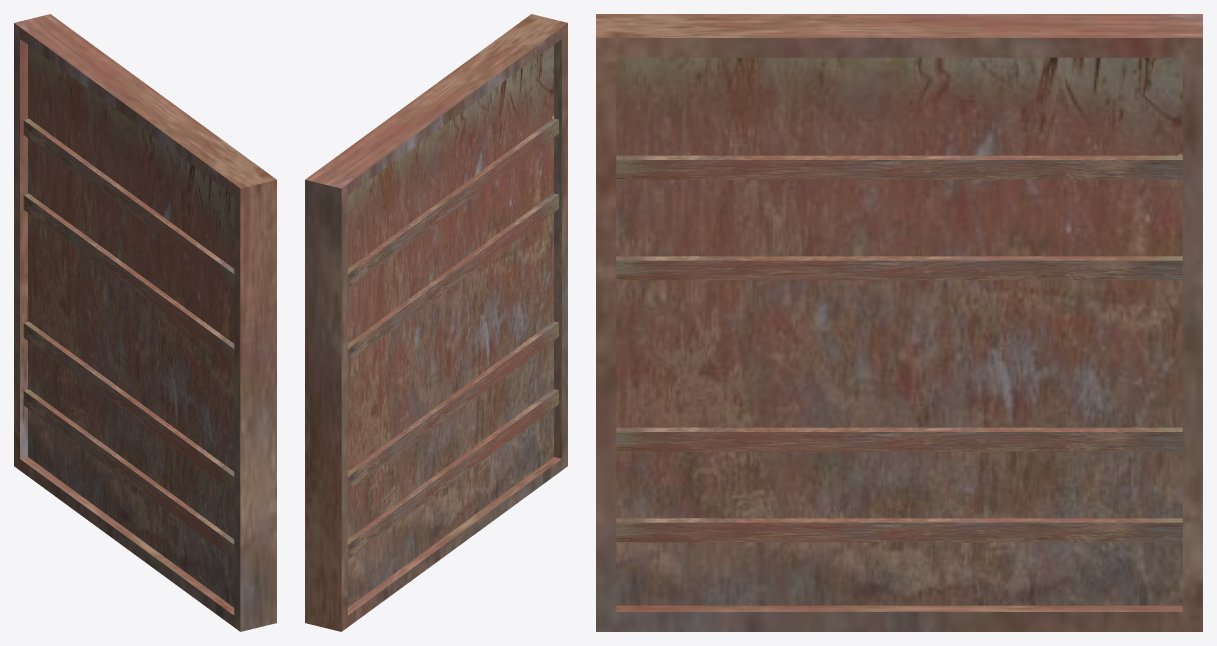
File: porta principal hydra.fbx
The picture shows the model from 3 angles, left to right: view 1: azimuth 30°, elevation 25°; view 2: azimuth 150°, elevation 25°; view 3: azimuth 270°, elevation 25°; orthographic projection. The views are drawn at different scales.
Parts seen in each view (by area): view 1: pCube403, pCube404, pCube406, pCube405, pCube407; view 2: pCube403, pCube404, pCube406, pCube405, pCube407; view 3: pCube403, pCube404, pCube405, pCube406, pCube407.
Part boxes in pixels (x1,y1,x2,y2): pCube403: (14,14,276,631); pCube404: (23,119,234,288); pCube406: (23,321,234,491); pCube405: (23,193,234,363); pCube407: (23,389,234,558); pCube403: (305,14,567,631); pCube404: (347,118,558,288); pCube406: (347,321,558,491); pCube405: (347,193,558,363); pCube407: (347,389,558,558); pCube403: (596,14,1202,631); pCube404: (616,155,1182,179); pCube405: (616,256,1182,280); pCube406: (616,427,1182,451); pCube407: (616,518,1182,542).
Bounding box in the file's own units: 54.84 × 637 × 590.
